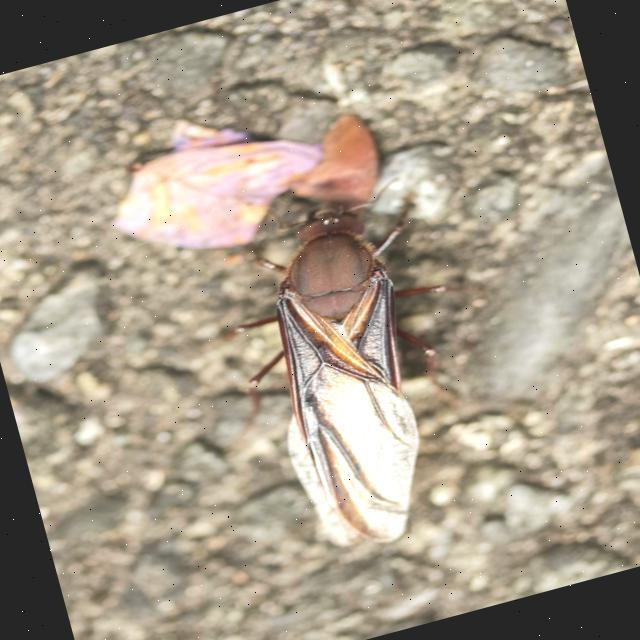Alive-Female-Alate: (185, 172, 523, 576)
